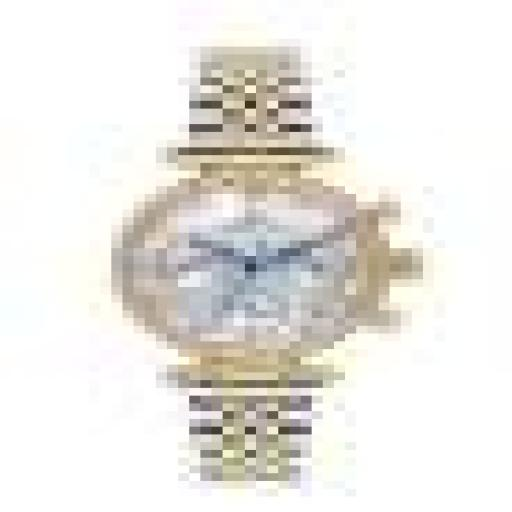KolSaati: (7, 5, 475, 488)
